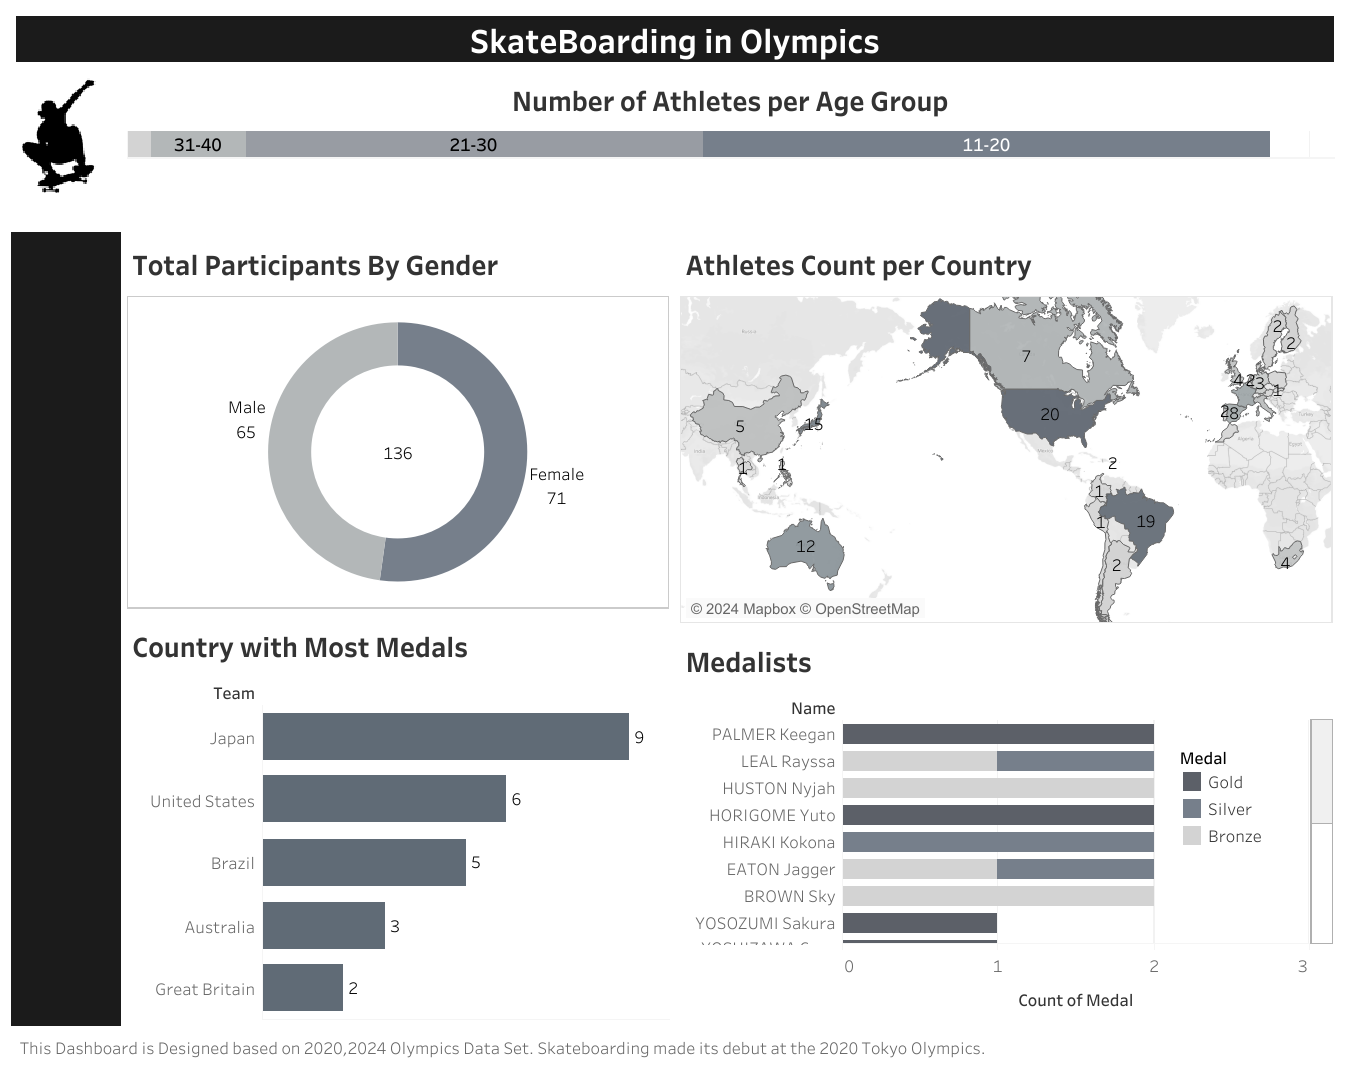

What the dashboard file says about the page in this screenshot:
{"tool":"tableau","page":{"name":"Dashboard 1","canvas":[1000,800],"ordinal":0},"visuals":[{"type":"title","box":[8,8,984,42]},{"type":"worksheet","title":"Sheet 4","mark":"Automatic","cols":["Entry ID"],"box":[90,50,902,122.2]},{"type":"worksheet","title":"Sheet 2","mark":"Pie","rows":["Calculation_14918222160723988","Calculation_14918222160723988"],"box":[90,172.2,410,282.5]},{"type":"worksheet","title":"Sheet 1","mark":"Automatic","box":[500,172.2,492,293.9]},{"type":"worksheet","title":"Sheet 7","mark":"Automatic","rows":["Team"],"cols":["Medal"],"box":[90,454.8,410,305.2]},{"type":"worksheet","title":"Sheet 8","mark":"Automatic","rows":["Name"],"cols":["Medal"],"box":[500,466.1,492,293.9]},{"type":"legend","title":"Sheet 8","param":"[federated.0qq7b091jkbxqk18fflqp0nif96b].[none:Medal:nk]","box":[873,550,95,79]},{"type":"text","box":[8,760,984,32]}]}

Visuals, with their boxes in screenshot pixels (x1, y1, x2, y2), scaled from the page's 1000x800 canvas onto the 1349x1079 screenshot:
title: {"left": 11, "top": 11, "right": 1338, "bottom": 67}
"Sheet 4" worksheet: {"left": 121, "top": 67, "right": 1338, "bottom": 232}
"Sheet 2" worksheet (Pie marks): {"left": 121, "top": 232, "right": 674, "bottom": 613}
"Sheet 1" worksheet: {"left": 674, "top": 232, "right": 1338, "bottom": 629}
"Sheet 7" worksheet: {"left": 121, "top": 613, "right": 674, "bottom": 1025}
"Sheet 8" worksheet: {"left": 674, "top": 629, "right": 1338, "bottom": 1025}
"Sheet 8" legend: {"left": 1178, "top": 742, "right": 1306, "bottom": 848}
text: {"left": 11, "top": 1025, "right": 1338, "bottom": 1068}
